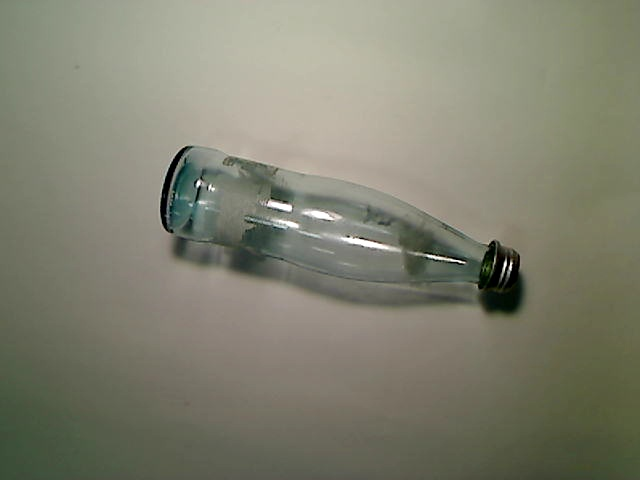bottle: (159, 146, 521, 297)
